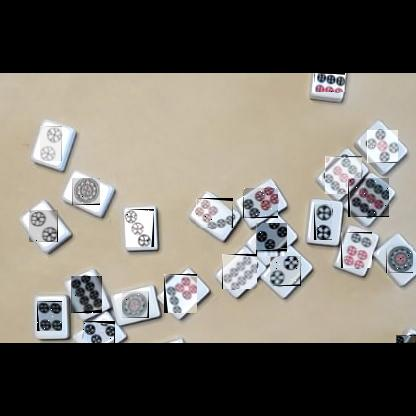1p: (72, 178, 100, 205), (386, 245, 413, 273), (122, 291, 149, 318)
2p: (270, 256, 301, 286), (29, 210, 58, 242), (40, 126, 62, 161), (314, 204, 332, 240)
3p: (126, 209, 154, 247)
4p: (256, 224, 287, 256), (37, 301, 62, 331), (83, 321, 115, 343)
5p: (367, 130, 398, 163)
6p: (341, 232, 372, 268), (243, 188, 278, 218)
7p: (164, 274, 197, 313), (196, 198, 233, 228), (396, 335, 416, 343)
8p: (222, 254, 257, 289), (71, 276, 102, 313)
9p: (348, 178, 389, 217), (325, 156, 362, 194), (313, 73, 345, 92)
